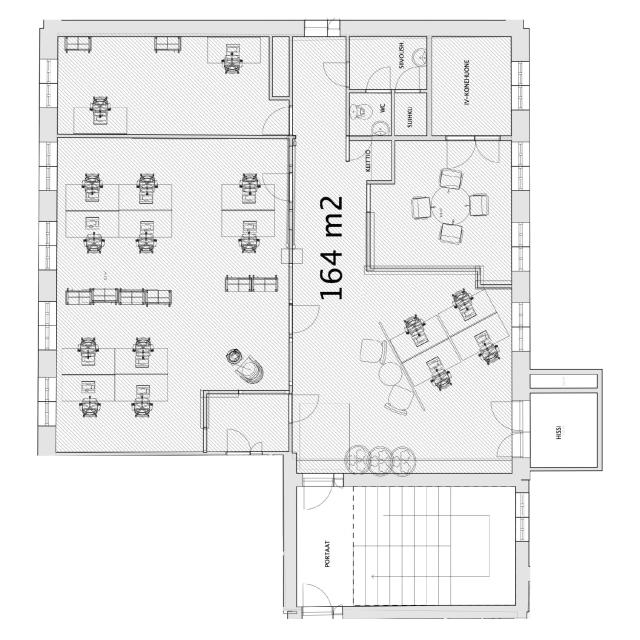door: (489, 399, 529, 457), (445, 136, 503, 172), (299, 581, 335, 618), (302, 475, 336, 512), (258, 171, 294, 203), (290, 392, 322, 423), (261, 104, 291, 137), (292, 304, 321, 332), (394, 61, 422, 90), (346, 136, 374, 163), (319, 62, 349, 87), (224, 425, 251, 452), (366, 64, 393, 90)
window: (37, 300, 59, 350), (512, 58, 532, 112), (38, 60, 58, 110), (38, 221, 58, 271), (38, 140, 57, 192), (513, 141, 532, 192), (38, 376, 57, 426), (513, 304, 531, 352), (513, 220, 528, 273), (514, 494, 527, 544), (305, 18, 342, 35)
zone: (52, 138, 290, 457), (286, 276, 520, 472), (290, 483, 525, 616), (48, 33, 293, 136), (365, 137, 512, 287), (431, 36, 513, 142), (524, 390, 600, 469), (348, 36, 431, 90), (347, 90, 395, 138), (393, 90, 430, 137)
